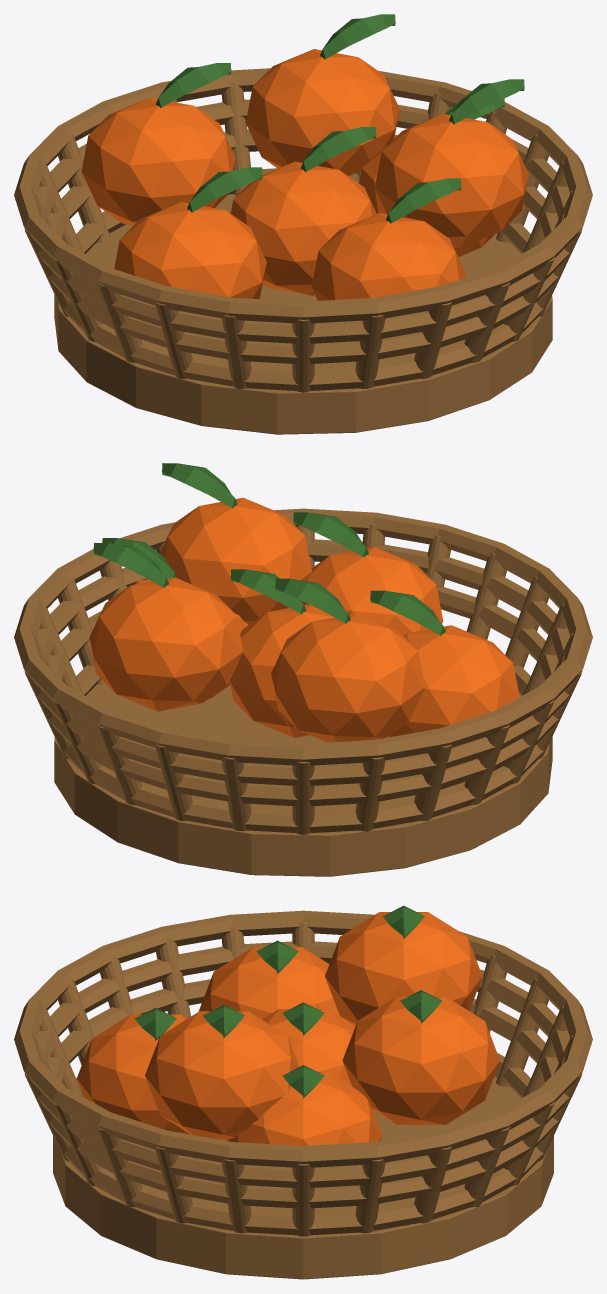
3 views of the same model, one above another, from view 1: azimuth 30°, elevation 25°; view 2: azimuth 150°, elevation 25°; view 3: azimuth 270°, elevation 25° (orthographic).
Parts seen in each view (by area): view 1: BASKET_Base, BASKET_Weave, MANDARIN_1, MANDARIN_5, MANDARIN_3, BASKET_Weave.003, MANDARIN_6, MANDARIN_4, MANDARIN_2, BASKET_Weave.002, BASKET_Weave.001, MANDARIN_Leaf.005 (+22 smaller); view 2: BASKET_Base, BASKET_Weave, MANDARIN_3, MANDARIN_1, BASKET_Weave.003, MANDARIN_5, BASKET_Weave.002, MANDARIN_4, BASKET_Weave.001, MANDARIN_2, MANDARIN_6, MANDARIN_Leaf.002 (+23 smaller); view 3: BASKET_Weave, BASKET_Base, MANDARIN_3, BASKET_Weave.003, MANDARIN_5, BASKET_Weave.002, MANDARIN_1, BASKET_Weave.001, MANDARIN_0, MANDARIN_2, MANDARIN_4, MANDARIN_6 (+26 smaller).
Part boxes in pixels (x1,y1,x2,y2): BASKET_Base: [54, 194, 552, 434]; BASKET_Weave: [14, 68, 592, 323]; MANDARIN_1: [81, 97, 235, 225]; MANDARIN_5: [374, 114, 528, 248]; MANDARIN_3: [245, 49, 399, 175]; BASKET_Weave.003: [36, 99, 570, 343]; MANDARIN_6: [230, 161, 376, 295]; MANDARIN_4: [114, 202, 266, 299]; MANDARIN_2: [311, 213, 465, 300]; BASKET_Weave.002: [48, 129, 558, 363]; BASKET_Weave.001: [63, 168, 543, 390]; MANDARIN_Leaf.005: [187, 167, 262, 212]; BASKET_Base: [54, 684, 552, 876]; BASKET_Weave: [14, 508, 592, 765]; MANDARIN_3: [89, 577, 243, 711]; MANDARIN_1: [271, 613, 425, 742]; BASKET_Weave.003: [36, 539, 570, 785]; MANDARIN_5: [159, 497, 311, 625]; BASKET_Weave.002: [48, 586, 558, 806]; MANDARIN_4: [388, 625, 519, 737]; BASKET_Weave.001: [63, 665, 543, 832]; MANDARIN_2: [300, 547, 443, 635]; MANDARIN_6: [229, 604, 333, 737]; MANDARIN_Leaf.002: [275, 578, 350, 623]; BASKET_Weave: [14, 910, 592, 1167]; BASKET_Base: [53, 1076, 553, 1279]; MANDARIN_3: [342, 996, 499, 1124]; BASKET_Weave.003: [36, 941, 570, 1187]; MANDARIN_5: [145, 1011, 299, 1139]; BASKET_Weave.002: [48, 979, 558, 1208]; MANDARIN_1: [325, 912, 482, 1025]; BASKET_Weave.001: [63, 1024, 543, 1235]; MANDARIN_0: [226, 1071, 382, 1145]; MANDARIN_2: [77, 1014, 190, 1134]; MANDARIN_4: [198, 947, 351, 1023]; MANDARIN_6: [262, 1009, 355, 1086].
Bounding box in the file's own units: 0.624 × 0.2847 × 0.624.
